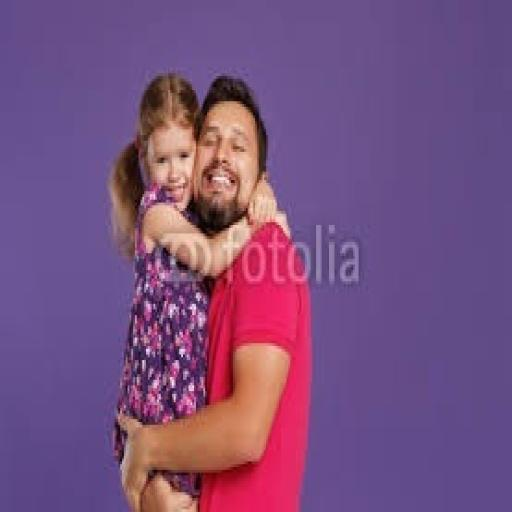hugging: (109, 70, 312, 510)
